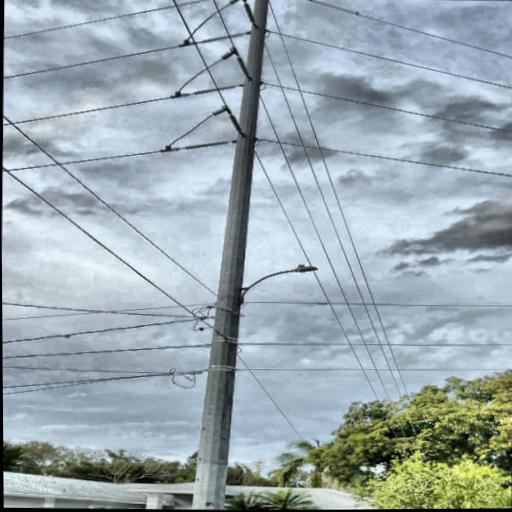pole: (173, 0, 287, 511)
street light: (235, 262, 322, 307)
